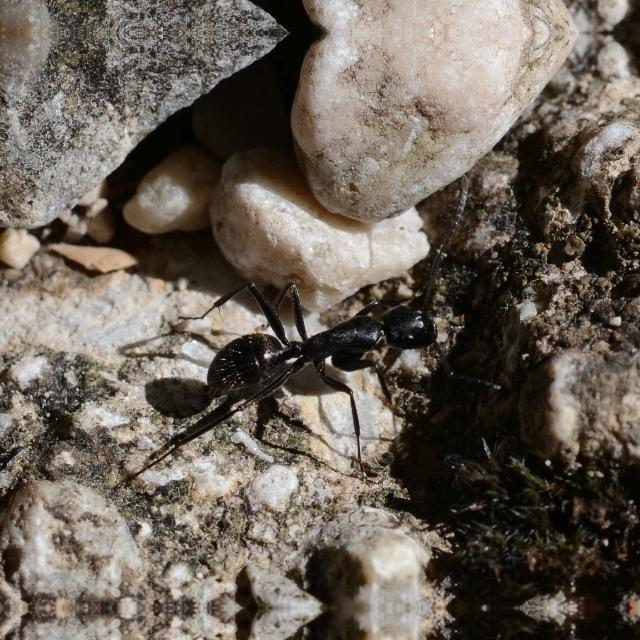Camponotus: (164, 250, 481, 440)
